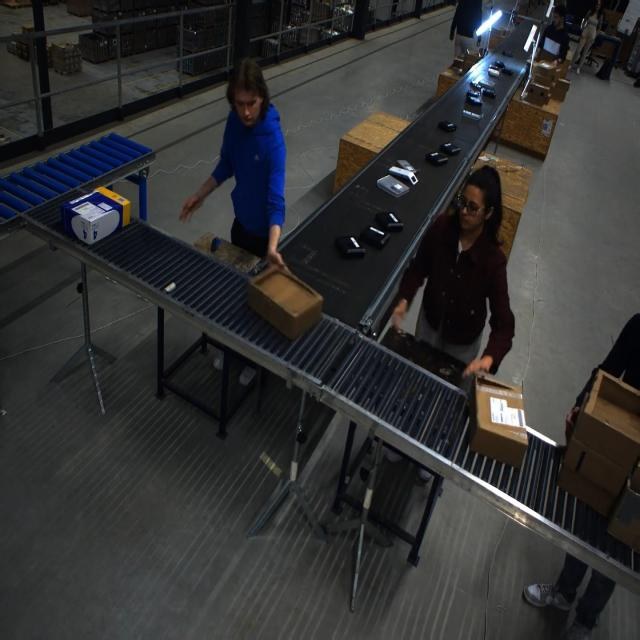box: (557, 371, 639, 518), (248, 261, 326, 347), (52, 181, 134, 246), (469, 374, 525, 467), (520, 81, 552, 108), (535, 44, 567, 70), (529, 60, 557, 89), (549, 77, 570, 102), (459, 52, 480, 74), (488, 26, 510, 42)
product: (359, 224, 390, 250), (377, 175, 410, 198), (335, 235, 365, 258), (374, 211, 402, 232), (388, 166, 417, 185), (425, 151, 448, 166), (396, 160, 419, 174), (439, 142, 460, 156), (438, 121, 457, 132), (462, 110, 481, 121), (480, 87, 496, 98), (488, 66, 500, 77), (493, 60, 505, 69), (501, 67, 513, 75), (501, 50, 513, 57)
